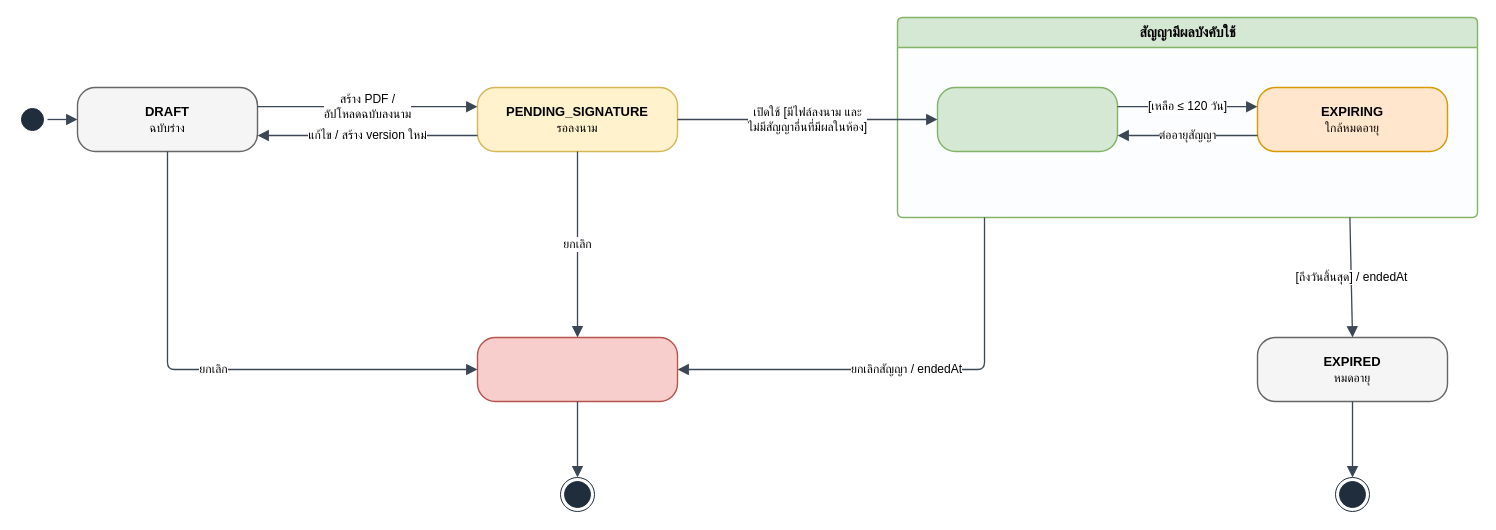
Some shapes in this 1496 by 530 pixel diagram are drawn without their labels. The centre of each missing label's shape, as x and y in pixels:
"ACTIVE ใช้งานอยู่" goes at (1027,119).
"CANCELLED ยกเลิก" goes at (577,369).
